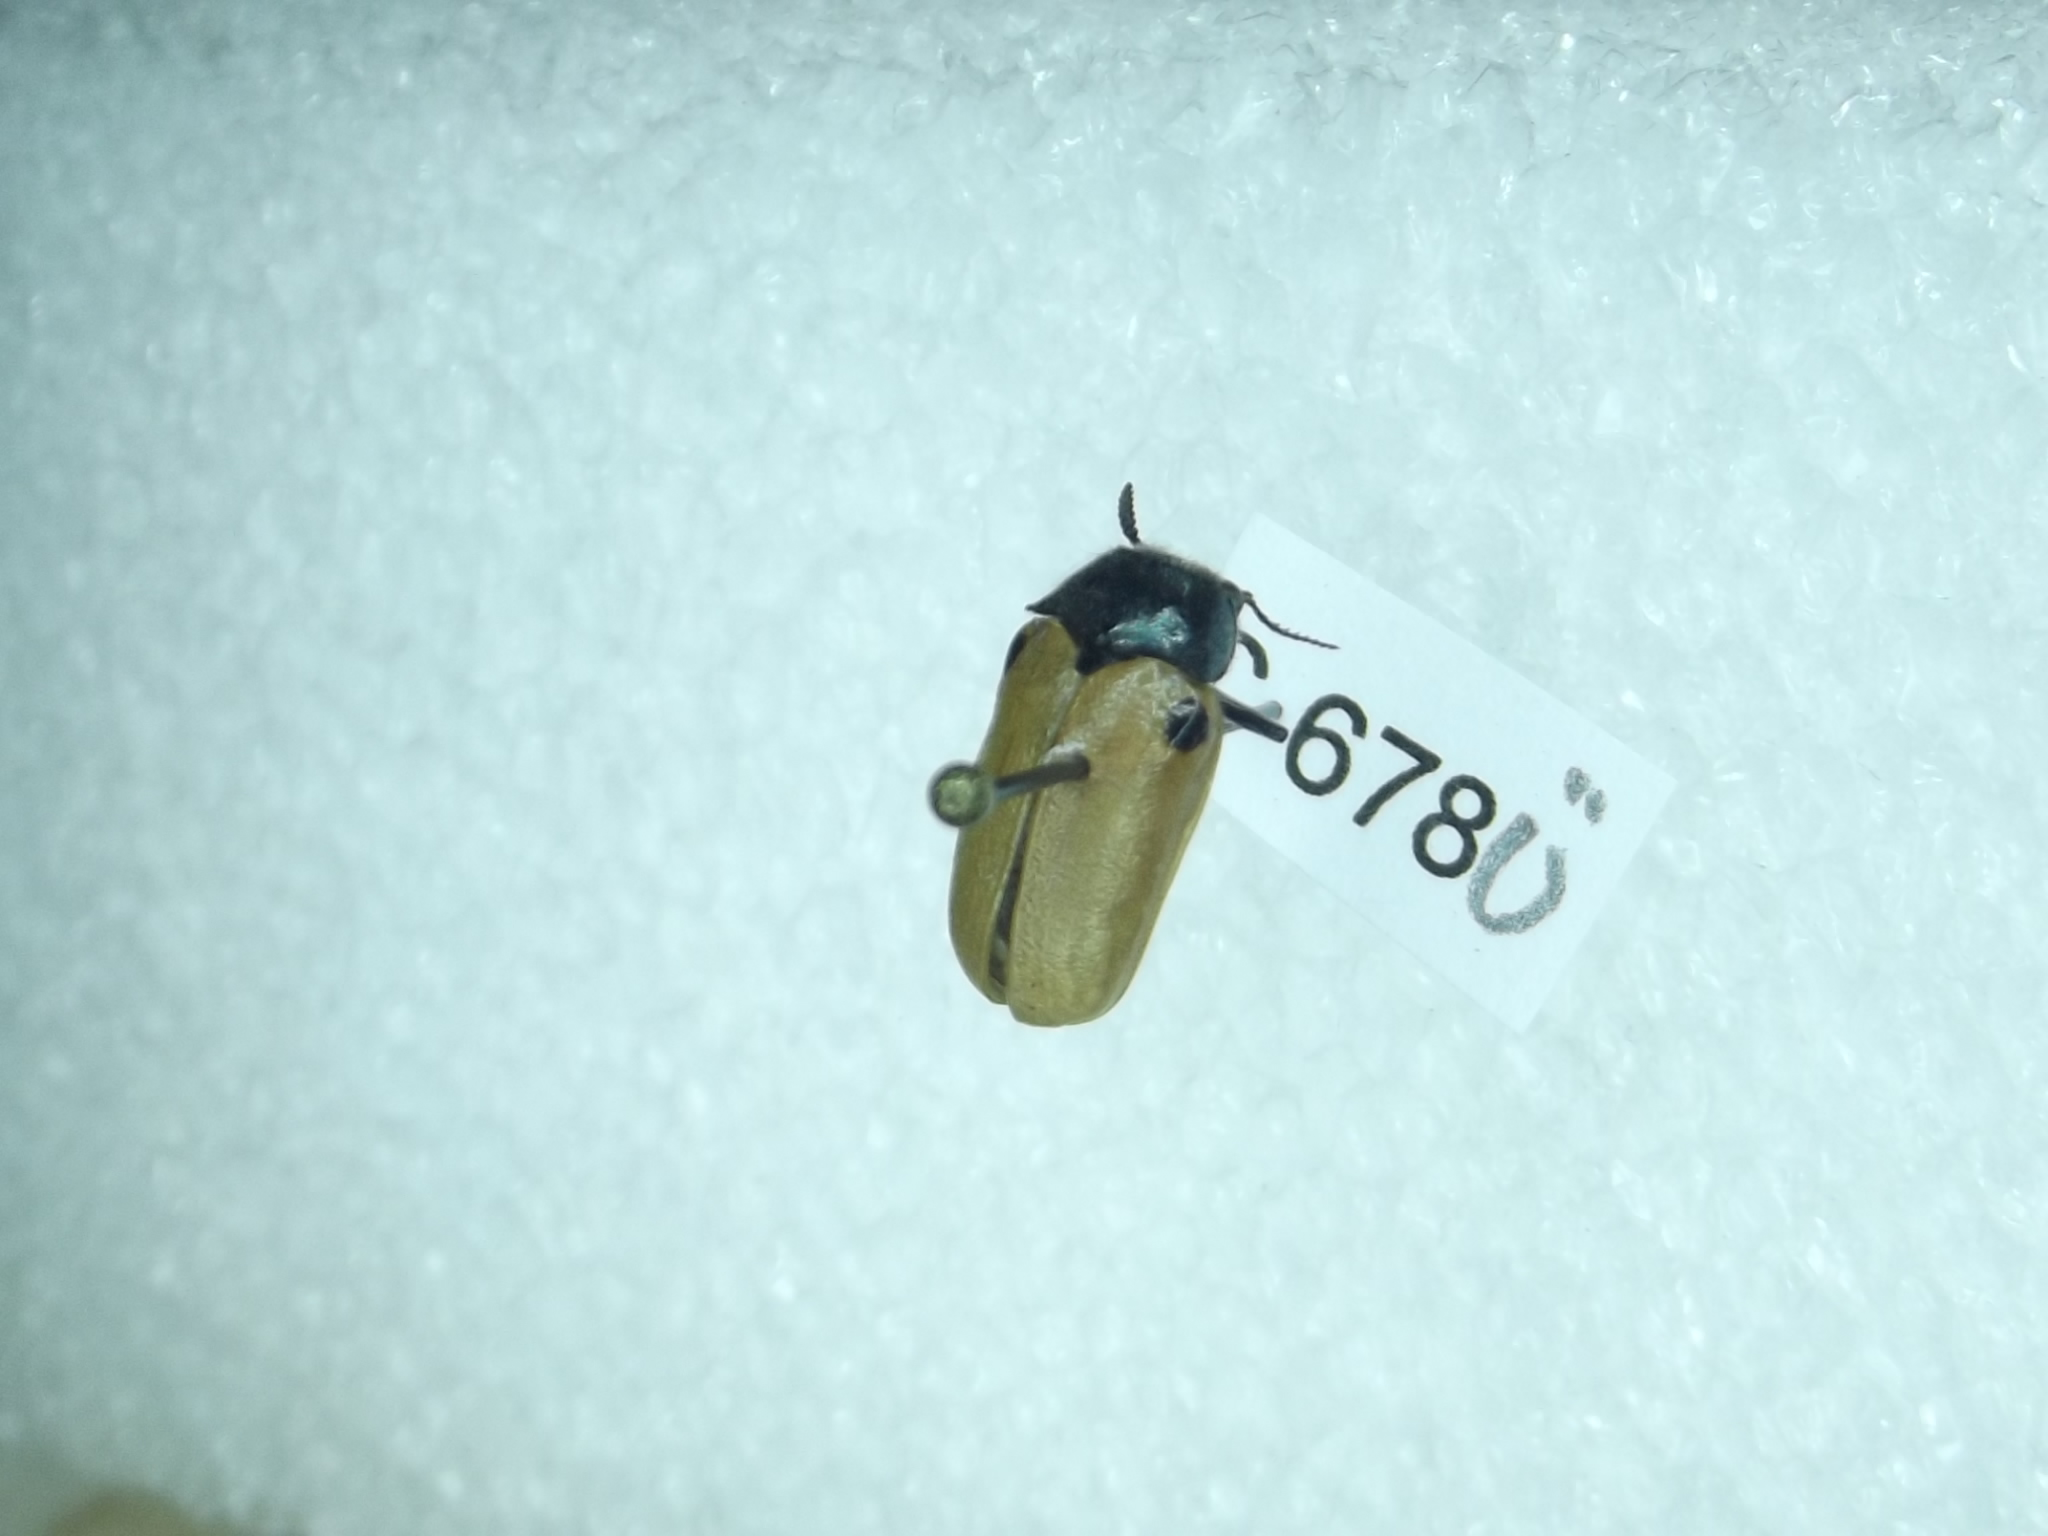Labidostomis_longimana: (922, 478, 1290, 1050)
